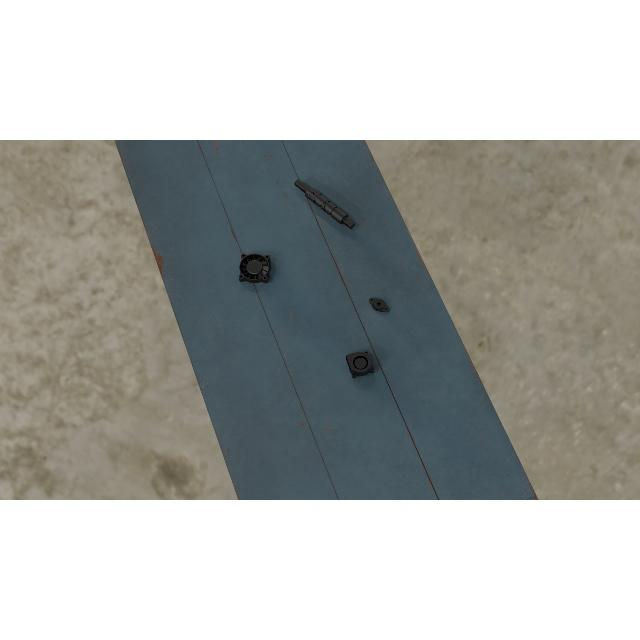Pieza1: (293, 175, 357, 232)
Pieza2: (366, 294, 392, 316)
Pieza3: (346, 348, 374, 379)
Pieza4: (238, 252, 270, 284)
